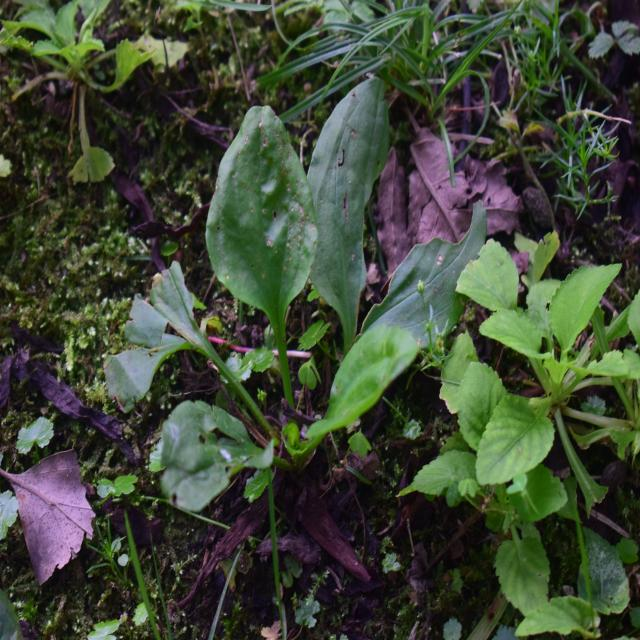plantain: (173, 119, 415, 478)
